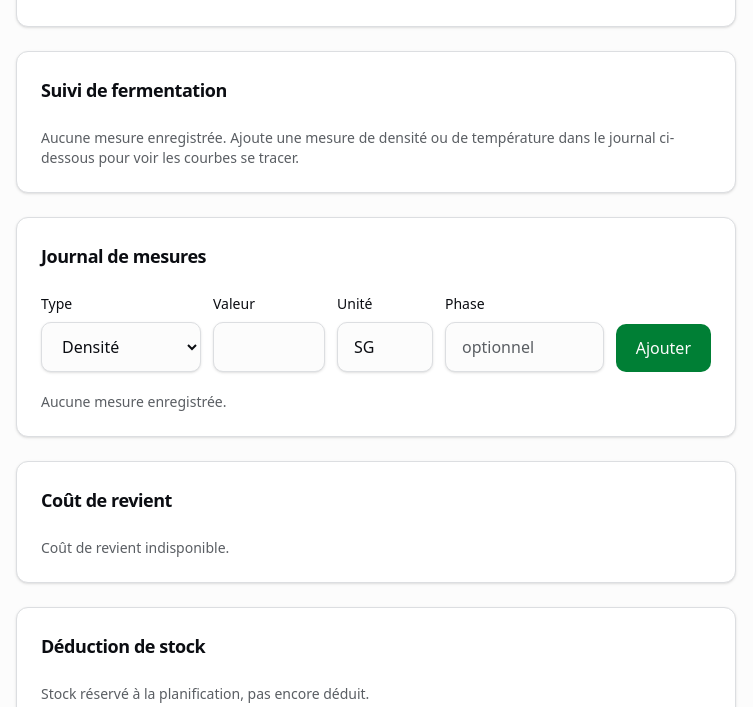
Scenario: détail d'un batch (M3-09) › ajoute une mesure (POST) qui apparaît dans le journal
The width and height of the screenshot is (753, 707).
(page scrolled)
Type "1.052" into the number field labelled "Valeur" at (269,347), box [213,322,325,372]
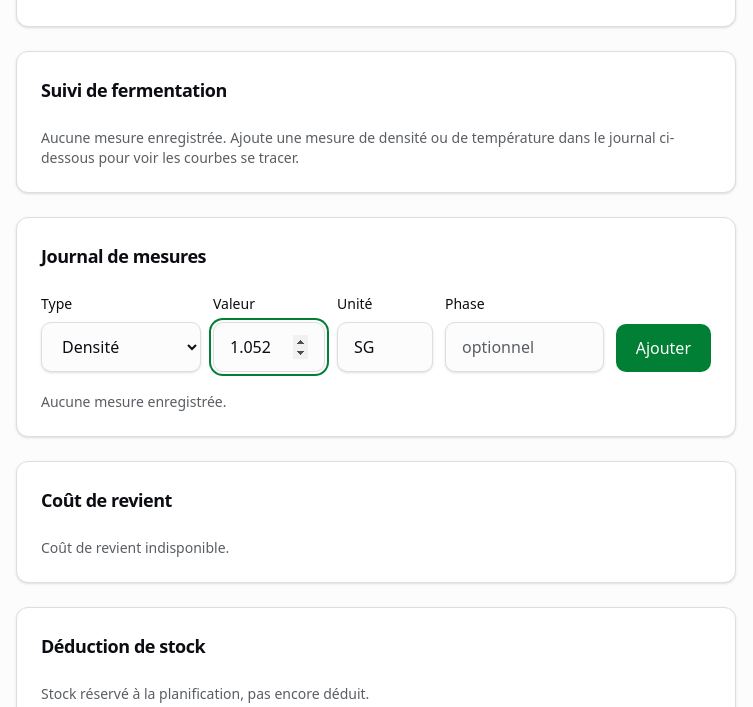
Click the button "Ajouter" at (663,348), box [616,324,711,372]
(page scrolled)
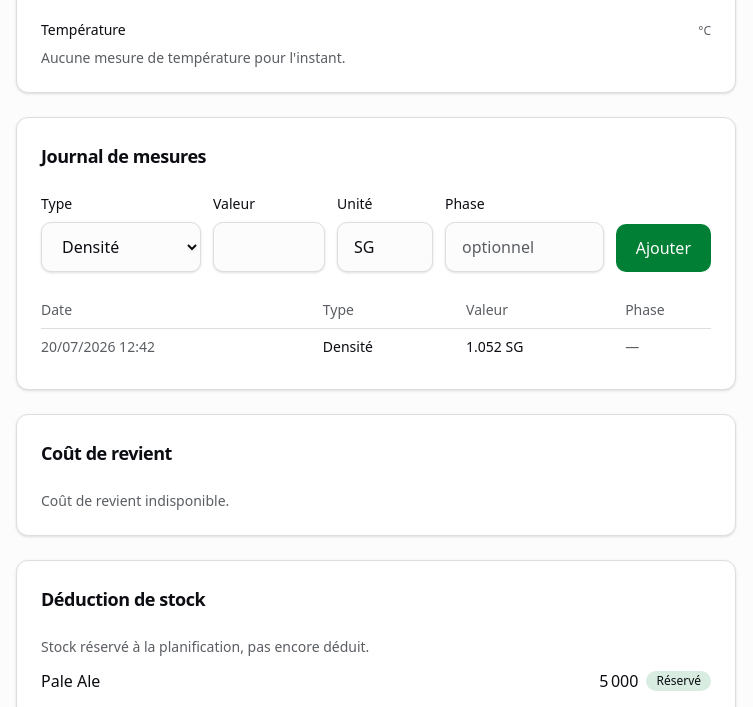
Expected: the text "1.052 SG" is shown, [466,329,625,365]
